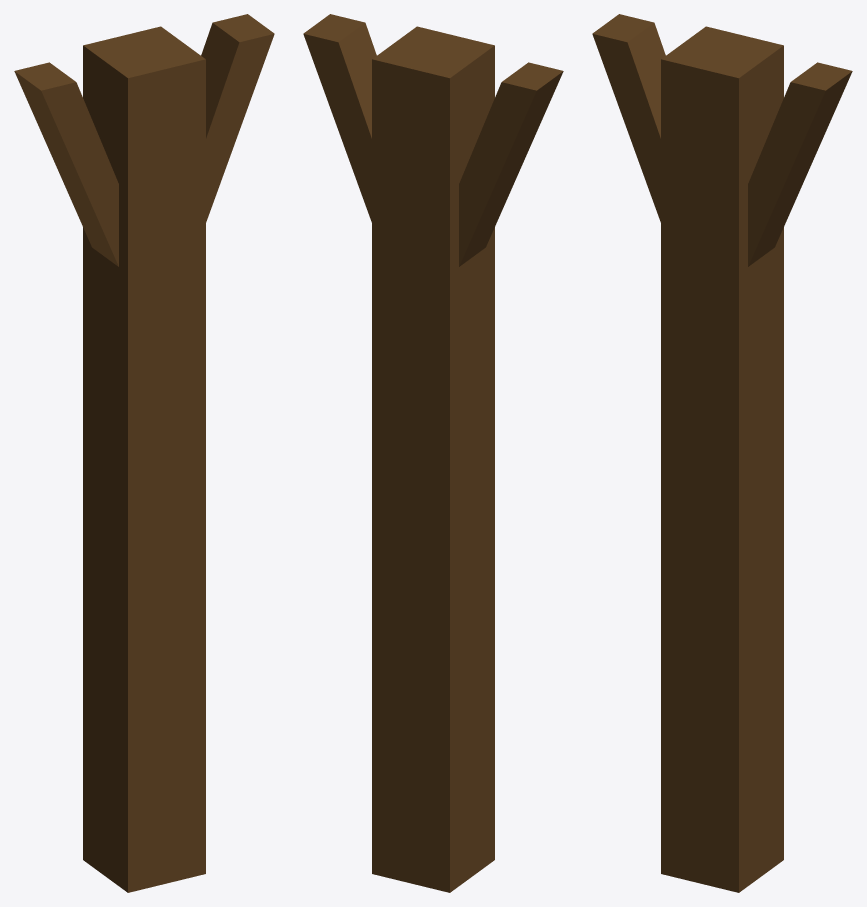
Rendered from Pillar2.obj.
The picture shows the model from 3 angles, left to right: view 1: azimuth 30°, elevation 25°; view 2: azimuth 150°, elevation 25°; view 3: azimuth 330°, elevation 25°; orthographic projection.
Parts seen in each view (by area): view 1: Mesh1 Model; view 2: Mesh1 Model; view 3: Mesh1 Model.
Boxes of the visible parts, <box> form: Mesh1 Model: <box>14,14,274,892</box>; Mesh1 Model: <box>303,14,563,892</box>; Mesh1 Model: <box>592,14,852,892</box>.
Size of the model in its own units: 0.3 by 1 by 0.1.
